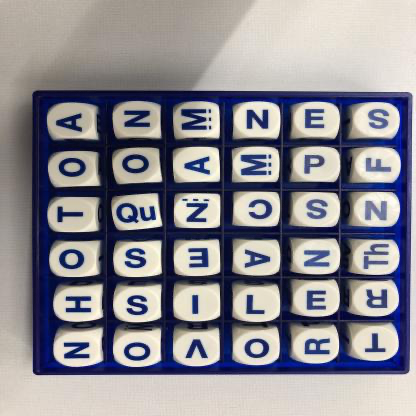a: (173, 147, 221, 183), (234, 240, 282, 276), (50, 103, 95, 138)
c: (234, 192, 281, 228)
e: (293, 103, 340, 138), (174, 242, 220, 277), (294, 282, 340, 316)
f: (354, 147, 400, 182)
h: (53, 287, 100, 323)
i: (175, 286, 221, 322)
l: (233, 287, 281, 322)
m: (233, 147, 281, 183), (174, 104, 221, 139)
n: (351, 192, 402, 228), (114, 103, 162, 138), (233, 104, 281, 139), (292, 240, 340, 275), (54, 333, 101, 368)
o: (50, 151, 100, 188), (233, 329, 280, 366), (51, 242, 98, 278), (114, 149, 162, 184), (115, 333, 160, 369)
p: (292, 147, 341, 183)
qu: (111, 195, 161, 231)
r: (352, 282, 401, 317), (293, 328, 339, 365)
s: (291, 193, 342, 228), (115, 286, 160, 322), (114, 243, 159, 277), (354, 104, 399, 137)
t: (352, 326, 399, 362), (49, 198, 97, 233)
th: (350, 240, 400, 277)
v: (174, 331, 220, 367)
z: (175, 193, 222, 229)
